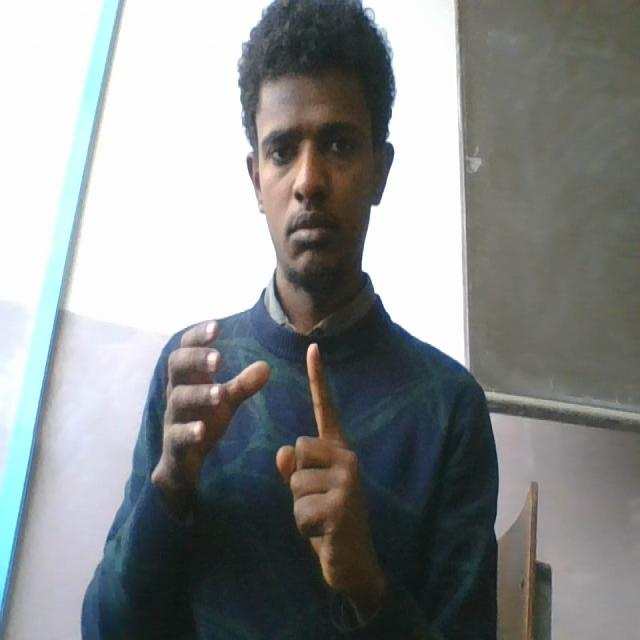melqeq: (157, 312, 384, 621)
